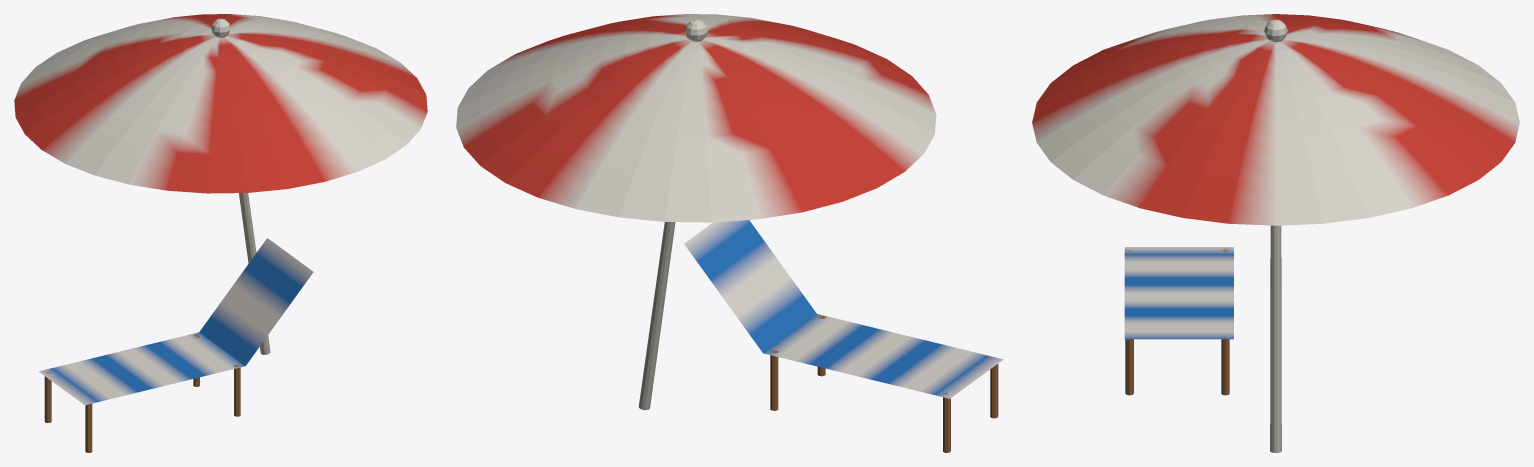
Rendered from beach_umbrella.glb.
The picture shows the model from 3 angles, left to right: view 1: azimuth 30°, elevation 25°; view 2: azimuth 150°, elevation 25°; view 3: azimuth 270°, elevation 25°; orthographic projection. The views are drawn at different scales.
Parts seen in each view (by area): view 1: BeachSet; view 2: BeachSet; view 3: BeachSet.
Boxes of the visible parts, x1,y1,x2,y2 form: BeachSet: (14, 14, 427, 452); BeachSet: (456, 14, 1003, 452); BeachSet: (1032, 14, 1519, 452).
Size of the model in its own units: 3.07 by 2.66 by 2.9.
